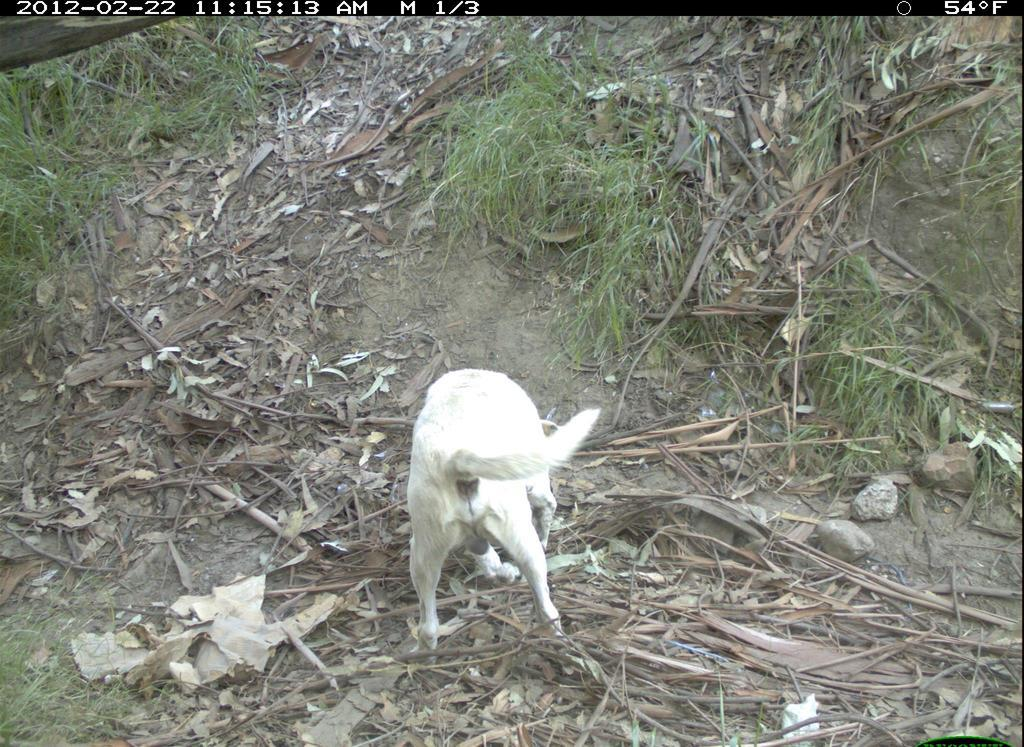dog: (388, 368, 610, 655)
